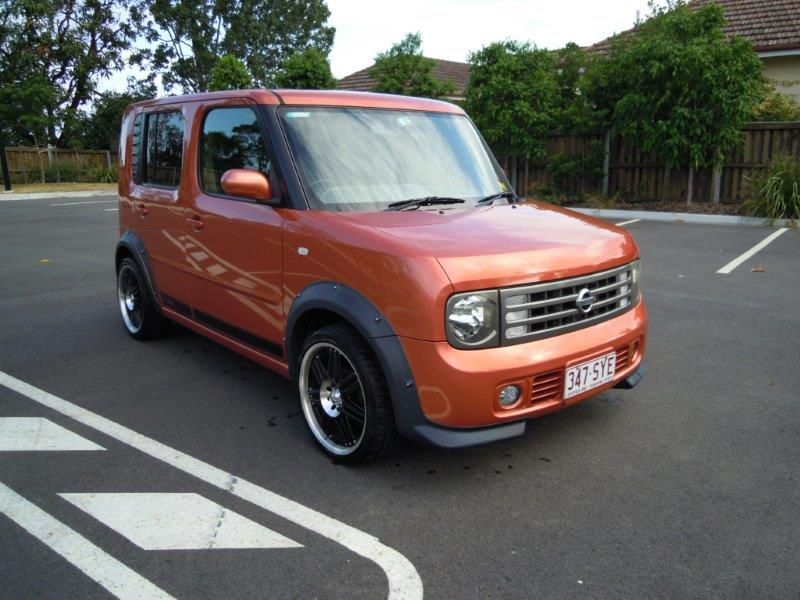front_view: (3, 160, 343, 406)
headlight: (174, 264, 322, 335)
